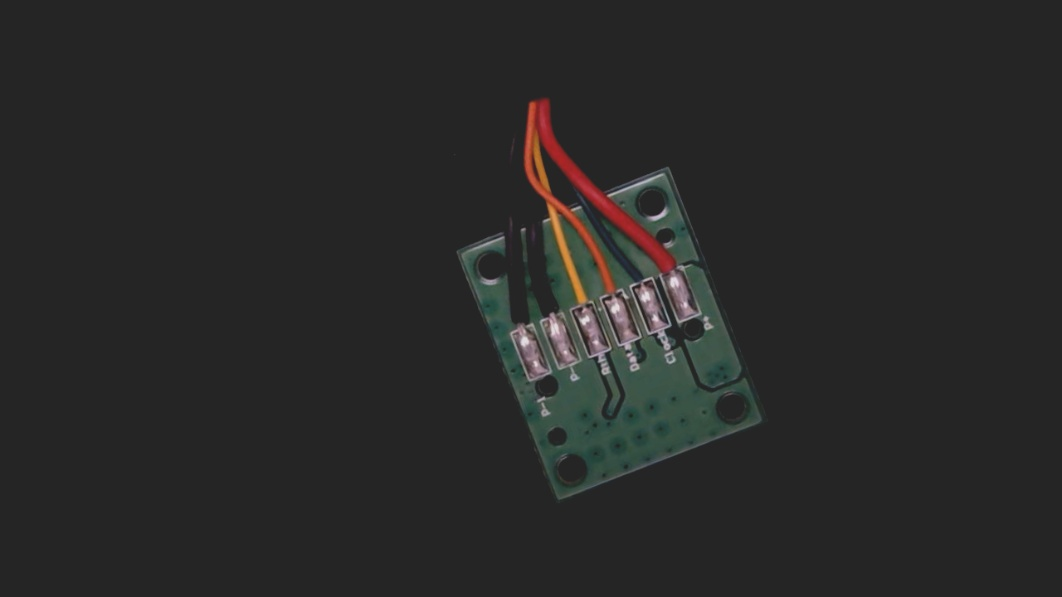Black: (530, 282, 568, 334)
Black1: (498, 287, 538, 344)
Green: (618, 246, 659, 303)
Orange: (588, 252, 629, 312)
Red: (649, 238, 689, 291)
Yellow: (559, 265, 598, 323)
